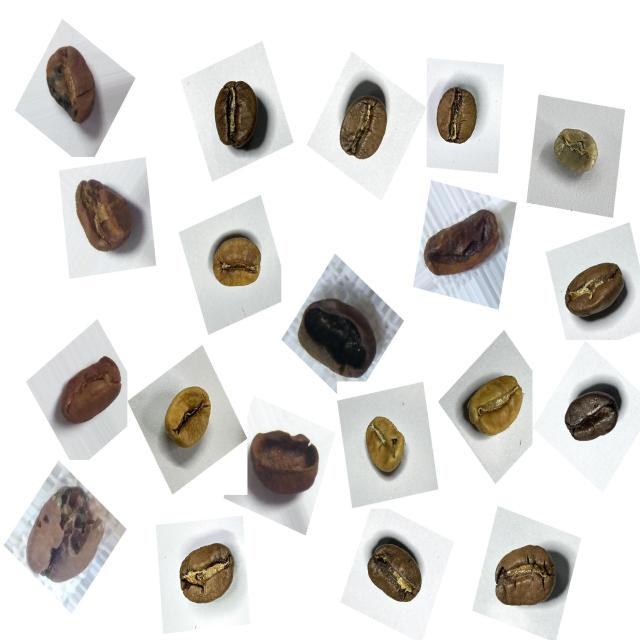bad: (19, 479, 113, 595), (292, 286, 386, 388), (420, 196, 510, 293), (244, 416, 328, 510), (67, 170, 145, 266), (34, 37, 108, 135), (51, 349, 128, 442)
dark: (556, 378, 630, 460)
green: (543, 116, 610, 186)
light: (458, 366, 532, 452), (152, 375, 221, 464), (200, 220, 270, 301), (352, 409, 417, 489)
medium: (482, 532, 567, 620), (167, 529, 244, 619), (555, 248, 634, 332), (199, 72, 274, 160), (326, 85, 399, 174), (360, 533, 432, 618), (428, 78, 491, 156)
